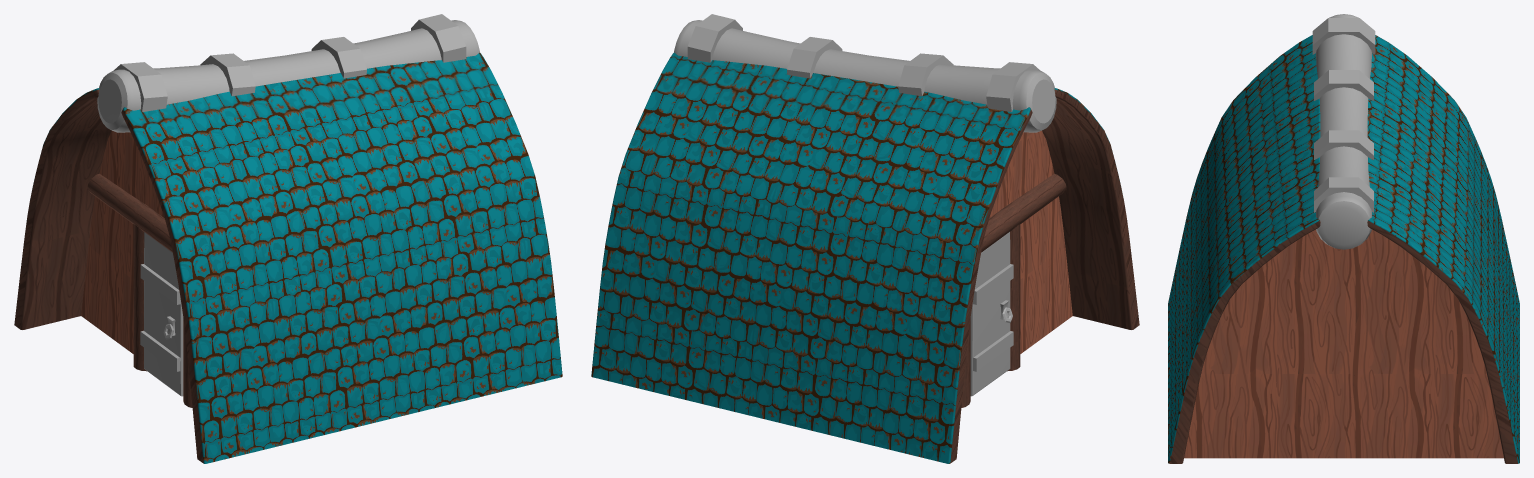
The model's file is Viking interior.fbx.
3 views of the same model, side by side, from view 1: azimuth 30°, elevation 25°; view 2: azimuth 150°, elevation 25°; view 3: azimuth 270°, elevation 25° (orthographic). The views are drawn at different scales.
Parts seen in each view (by area): view 1: polySurface9, pCube5, polySurface8, Viking_door, polySurface13; view 2: polySurface9, pCube5, polySurface8, Viking_door, polySurface13; view 3: polySurface9, polySurface15, pCube5.
Boxes of the visible parts, x1=… form: polySurface9: x1=14, y1=52, x2=562, y2=463; pCube5: x1=97, y1=14, x2=479, y2=132; polySurface8: x1=81, y1=130, x2=164, y2=353; Viking_door: x1=140, y1=232, x2=183, y2=396; polySurface13: x1=87, y1=173, x2=192, y2=407; polySurface9: x1=591, y1=52, x2=1139, y2=463; pCube5: x1=674, y1=14, x2=1056, y2=132; polySurface8: x1=989, y1=130, x2=1072, y2=353; Viking_door: x1=970, y1=232, x2=1013, y2=396; polySurface13: x1=961, y1=173, x2=1066, y2=407; polySurface9: x1=1168, y1=35, x2=1519, y2=463; polySurface15: x1=1184, y1=229, x2=1503, y2=458; pCube5: x1=1312, y1=14, x2=1375, y2=249.
Bounding box in the file's own units: 9.53 × 8.17 × 8.69.
